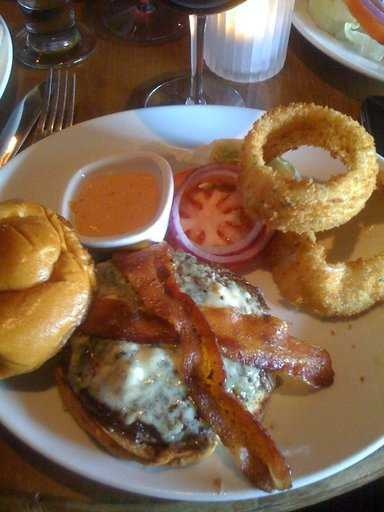hamburger: (1, 228, 320, 453)
